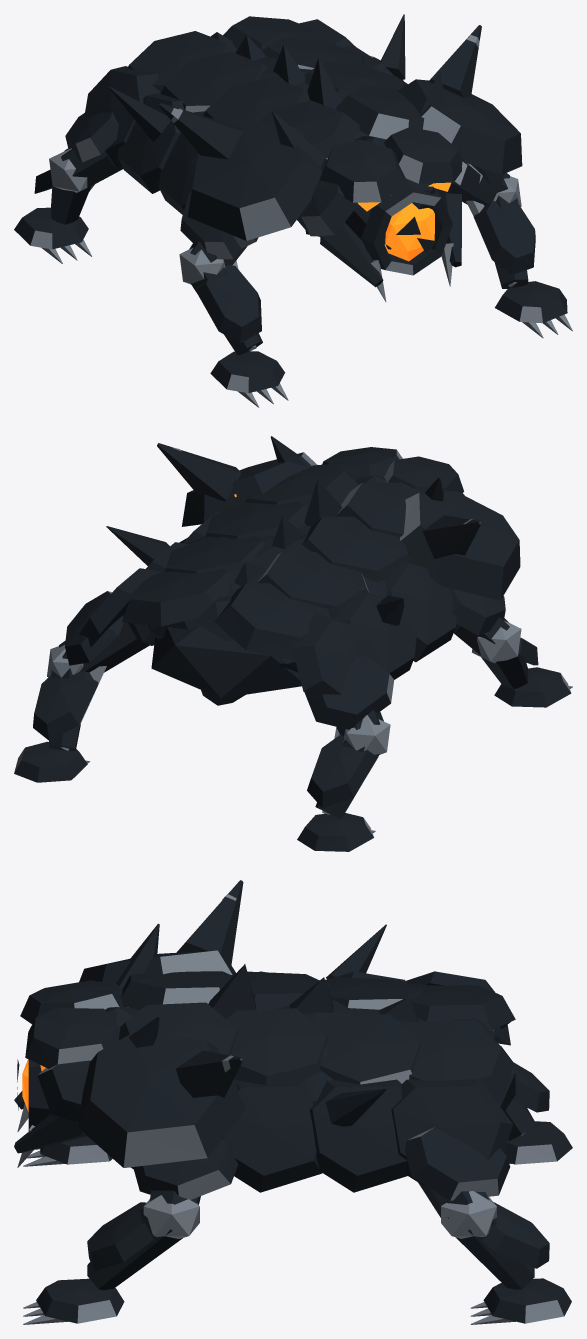
The model's file is EnemyBasic_Final.fbx.
3 views of the same model, one above another, from view 1: azimuth 30°, elevation 25°; view 2: azimuth 150°, elevation 25°; view 3: azimuth 270°, elevation 25° (orthographic). The views are drawn at different scales.
Parts seen in each view (by area): view 1: Armor_Mesh, Head_Mesh, Leg_FL_Mesh, Leg_FR_Mesh, Leg_BL_Mesh, Core_Mesh, Body_Mesh; view 2: Armor_Mesh, Leg_BL_Mesh, Leg_BR_Mesh, Body_Mesh, Leg_FL_Mesh, Head_Mesh; view 3: Armor_Mesh, Leg_BR_Mesh, Head_Mesh, Leg_FR_Mesh, Leg_BL_Mesh, Body_Mesh, Leg_FL_Mesh.
Part boxes in pixels (bbox=[...]): Armor_Mesh: bbox=[84, 14, 522, 248]; Head_Mesh: bbox=[272, 71, 480, 301]; Leg_FL_Mesh: bbox=[179, 192, 288, 407]; Leg_FR_Mesh: bbox=[448, 163, 572, 338]; Leg_BL_Mesh: bbox=[14, 112, 122, 263]; Core_Mesh: bbox=[358, 182, 451, 261]; Body_Mesh: bbox=[193, 47, 383, 139]; Armor_Mesh: bbox=[79, 443, 520, 701]; Leg_BL_Mesh: bbox=[297, 656, 394, 851]; Leg_BR_Mesh: bbox=[14, 591, 154, 782]; Body_Mesh: bbox=[148, 525, 387, 705]; Leg_FL_Mesh: bbox=[449, 588, 572, 707]; Head_Mesh: bbox=[270, 436, 464, 501]; Armor_Mesh: bbox=[77, 880, 515, 1192]; Leg_BR_Mesh: bbox=[405, 1127, 571, 1324]; Head_Mesh: bbox=[14, 923, 159, 1167]; Leg_FR_Mesh: bbox=[23, 1139, 238, 1324]; Leg_BL_Mesh: bbox=[493, 1025, 572, 1164]; Body_Mesh: bbox=[277, 1000, 515, 1111]; Leg_FL_Mesh: bbox=[23, 1136, 112, 1166].
Bounding box in the file's own units: 0.9075 × 0.6 × 1.11.
